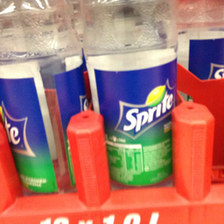soda: (77, 1, 179, 190), (1, 1, 88, 194)
